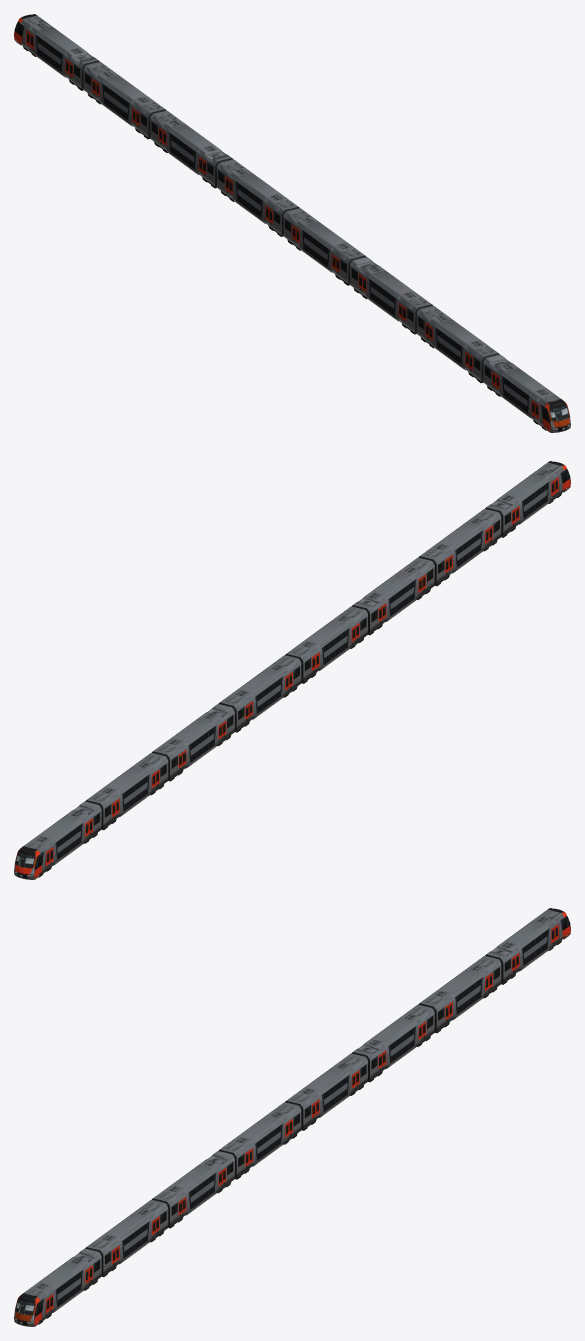
File: TRAINUVFIXED.fbx
3 views of the same model, one above another, from view 1: azimuth 30°, elevation 25°; view 2: azimuth 150°, elevation 25°; view 3: azimuth 330°, elevation 25° (orthographic).
Parts seen in each view (by area): view 1: Bake; view 2: Bake; view 3: Bake.
Part boxes in pixels (x1=…): Bake: x1=14, y1=14, x2=570, y2=432; Bake: x1=14, y1=461, x2=570, y2=879; Bake: x1=14, y1=908, x2=570, y2=1326.
Bounding box in the file's own units: 5.08 × 241 × 7.04.
